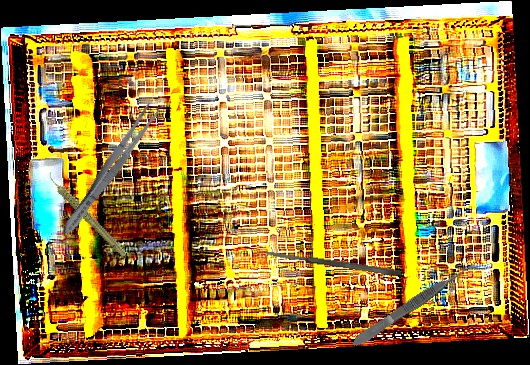Dressing Forceps: (56, 99, 164, 240)
Handpiece: (46, 158, 129, 270)
Spatula Surgical: (265, 248, 402, 278)
Tissue Forceps: (349, 265, 469, 350)
